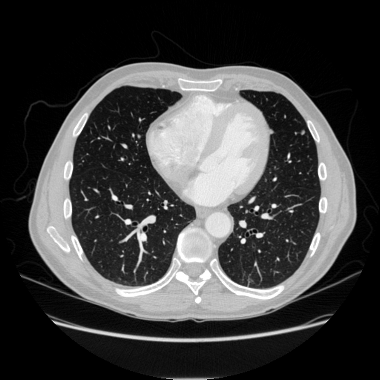nodule: (301, 130, 305, 134)
